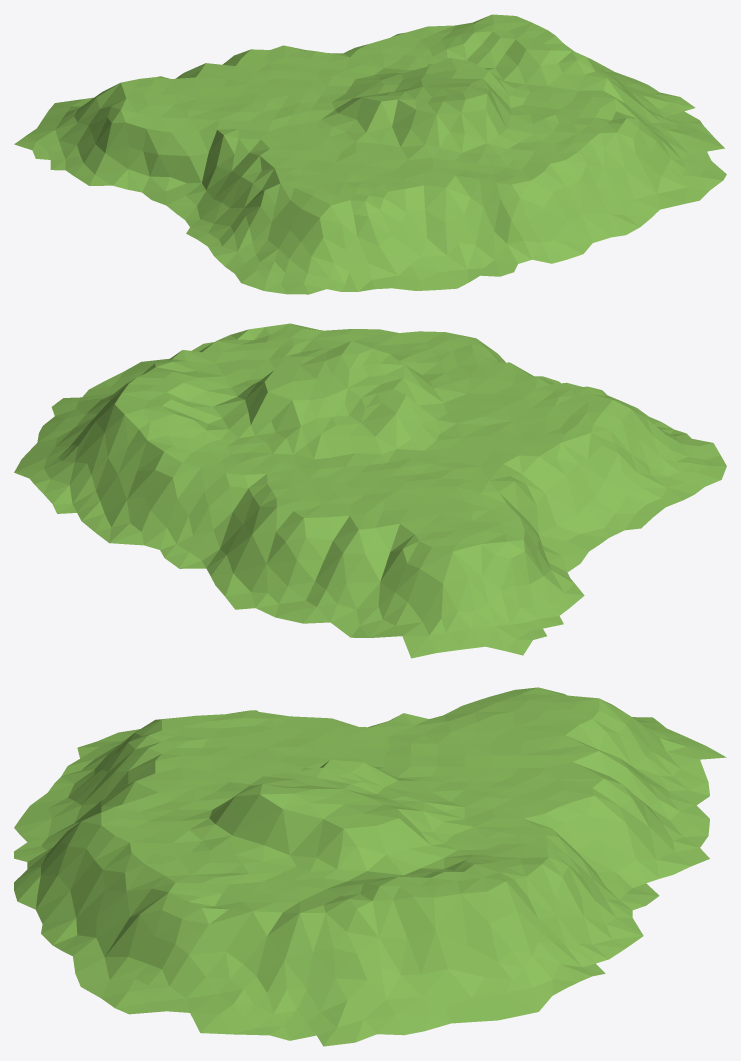
File: MT_Mountain_L_b_03_LOD.fbx
3 views of the same model, one above another, from view 1: azimuth 30°, elevation 25°; view 2: azimuth 150°, elevation 25°; view 3: azimuth 270°, elevation 25° (orthographic). The views are drawn at different scales.
Visible parts, largest first — view 1: MT_Mountain_L_b_03_LOD0; view 2: MT_Mountain_L_b_03_LOD0; view 3: MT_Mountain_L_b_03_LOD0.
Part boxes in pixels (left/top/right/bottom): MT_Mountain_L_b_03_LOD0: left=14, top=14, right=726, bottom=294; MT_Mountain_L_b_03_LOD0: left=14, top=323, right=726, bottom=658; MT_Mountain_L_b_03_LOD0: left=14, top=687, right=726, bottom=1046.
Size of what is drawn, in the model's own units: 9062 by 1432 by 8281.
